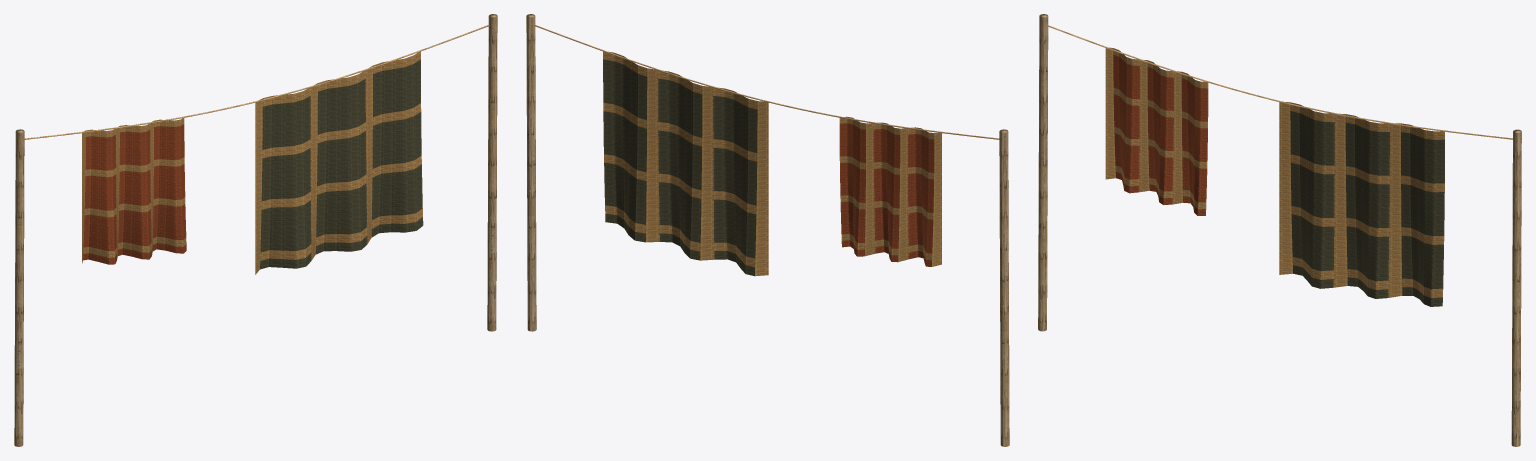
Rendered from prop_clothesline.glb.
3 views of the same model, side by side, from view 1: azimuth 30°, elevation 25°; view 2: azimuth 150°, elevation 25°; view 3: azimuth 330°, elevation 25° (orthographic).
Parts seen in each view (by area): view 1: prop_clothesline; view 2: prop_clothesline; view 3: prop_clothesline.
Part boxes in pixels (x1,y1,x2,y2): prop_clothesline: (14, 14, 497, 446); prop_clothesline: (526, 14, 1009, 446); prop_clothesline: (1038, 14, 1521, 446).
Bounding box in the file's own units: 3.06 × 1.9 × 0.1111.
Materials: 5 (5 with a texture image).
